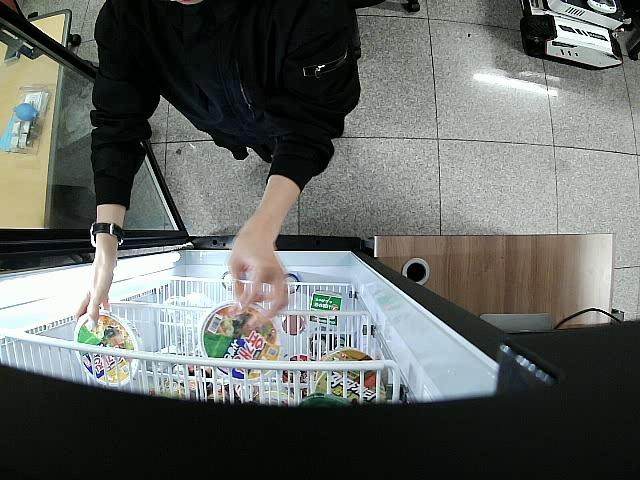00_hand: (225, 225, 289, 337), (73, 263, 117, 332)
09_yukGaeJang: (199, 303, 283, 382), (73, 311, 143, 388)
